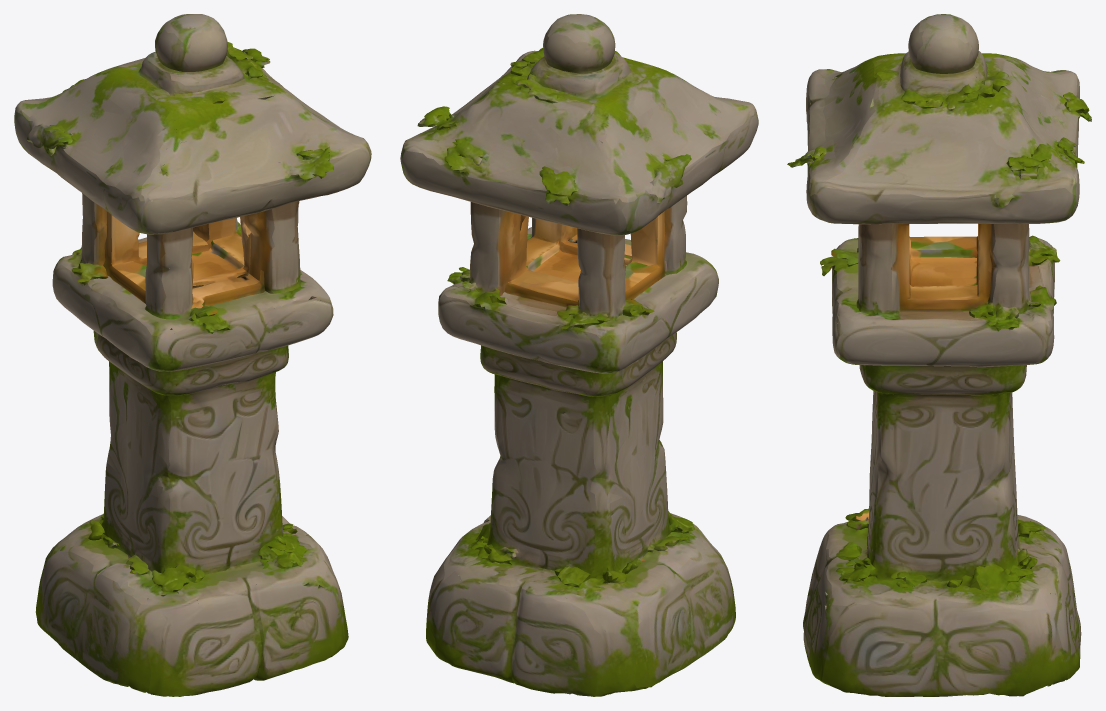
File: origin_lantern_row.glb
3 renders of one model, left to right at view 1: azimuth 30°, elevation 25°; view 2: azimuth 150°, elevation 25°; view 3: azimuth 270°, elevation 25°, orthographic.
Visible parts, largest first — view 1: textured_mesh.obj; view 2: textured_mesh.obj; view 3: textured_mesh.obj.
Part boxes in pixels (x1,y1,x2,y2): textured_mesh.obj: (14, 14, 371, 696); textured_mesh.obj: (400, 14, 758, 696); textured_mesh.obj: (787, 14, 1091, 696).
Bounding box in the file's own units: 0.8293 × 1.99 × 0.8763.
Materials: 1 (1 with a texture image).
